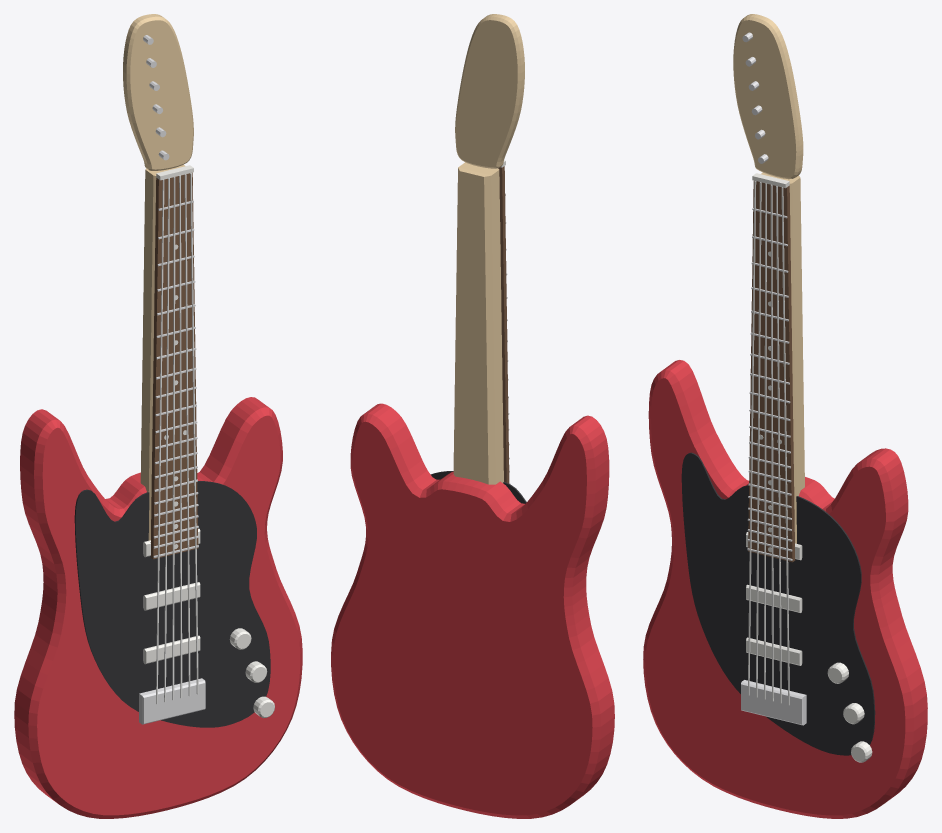
Rendered from guitar.glb.
3 renders of one model, left to right at view 1: azimuth 30°, elevation 25°; view 2: azimuth 150°, elevation 25°; view 3: azimuth 330°, elevation 25°, orthographic.
Visible parts, largest first — view 1: guitar; view 2: guitar; view 3: guitar.
Boxes of the visible parts, x1,y1,x2,y2 form: guitar: (14, 14, 302, 818); guitar: (331, 14, 614, 818); guitar: (643, 14, 927, 818).
Bounding box in the file's own units: 0.3487 × 0.9725 × 0.0625.
